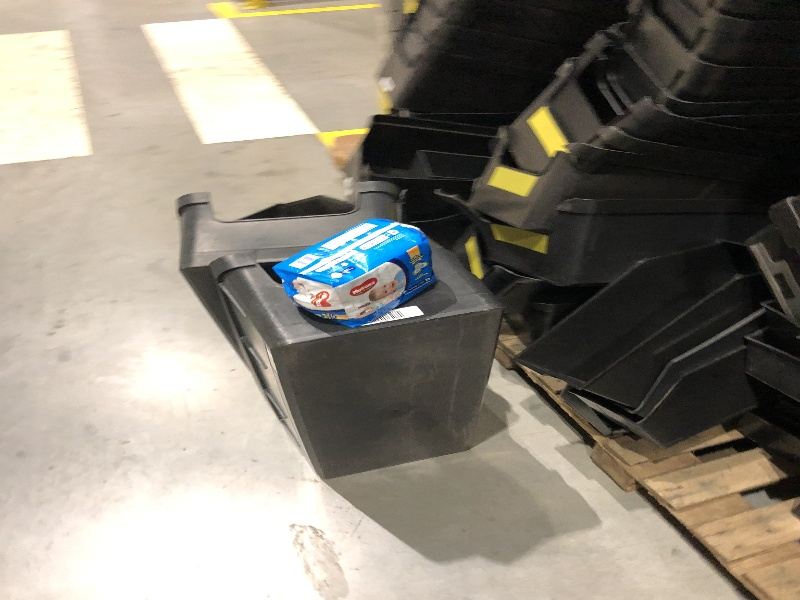fralda: (276, 220, 440, 323)
